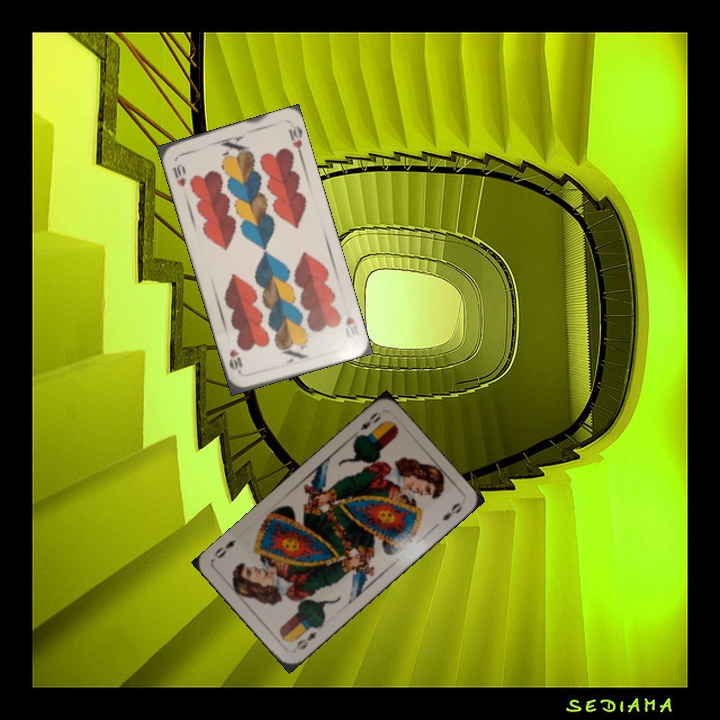EO: (292, 627, 319, 653), (356, 408, 384, 433)
H10: (168, 160, 189, 190), (341, 312, 360, 338)
